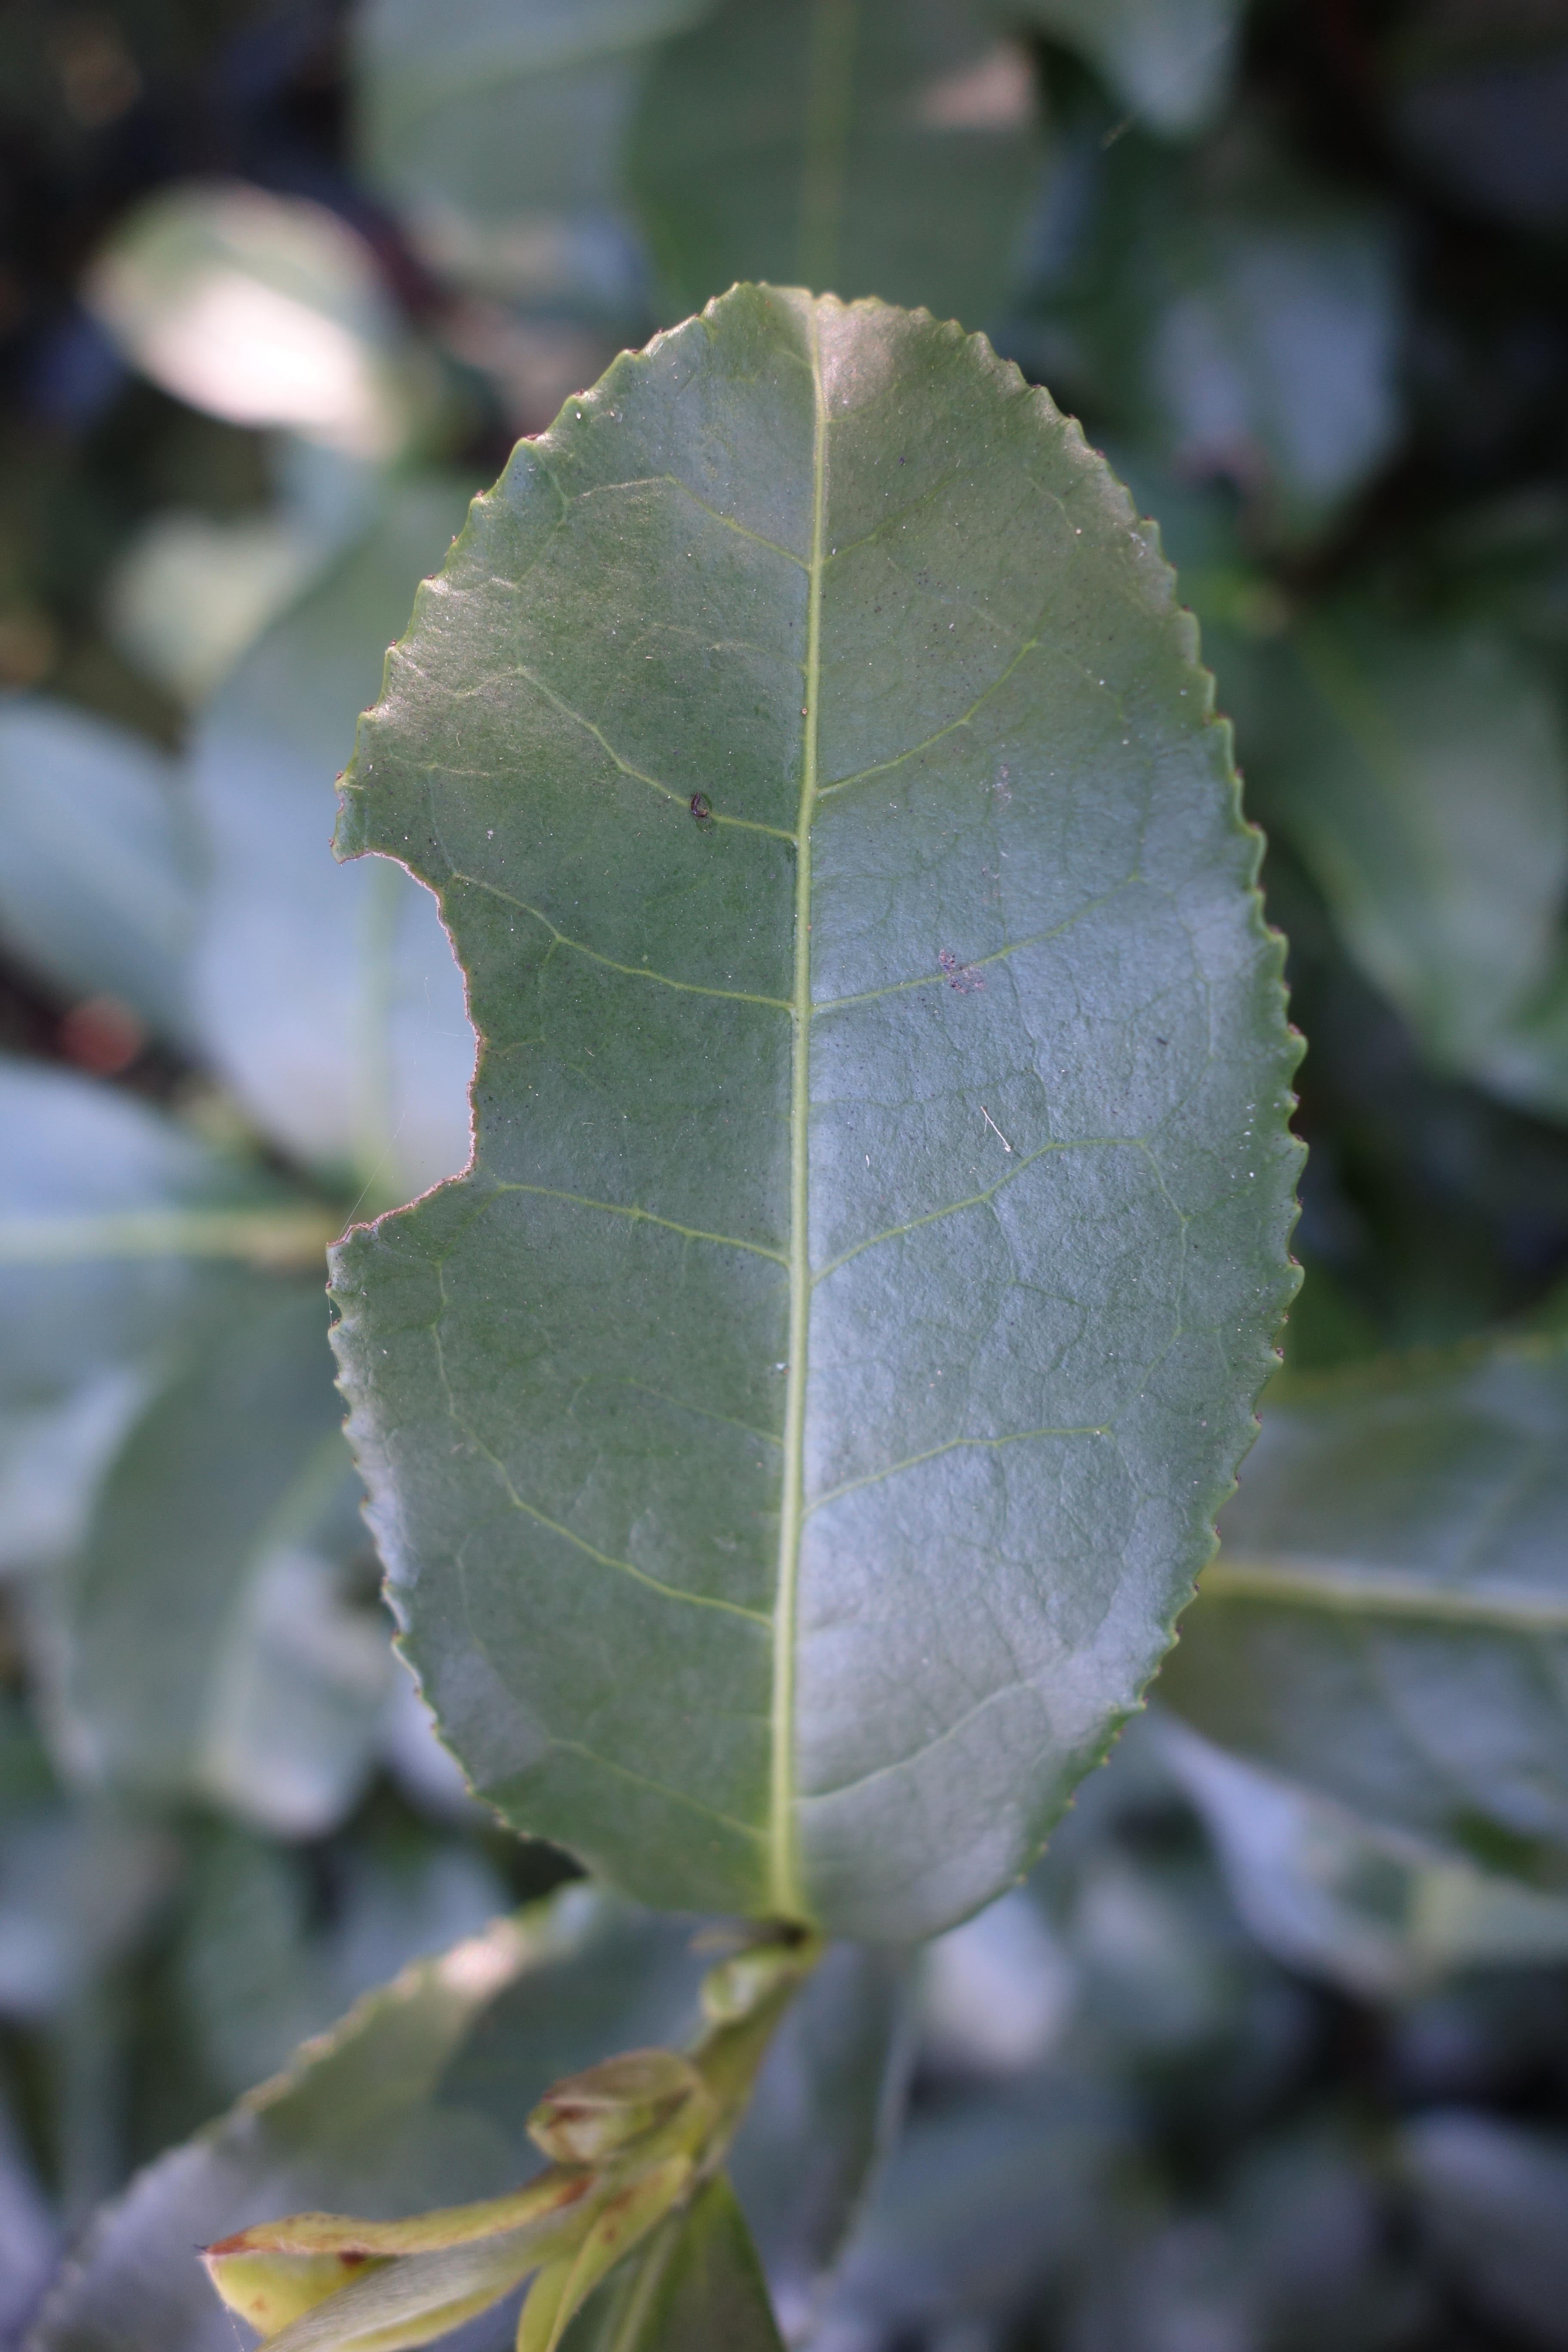chihuo_low: (320, 273, 1314, 1955)
tanju_low: (201, 2165, 616, 2348)
